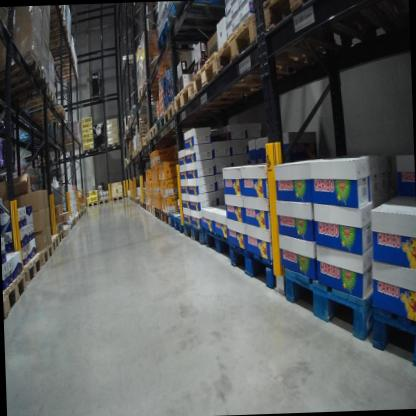pallet: (209, 4, 335, 96), (279, 260, 379, 354), (259, 0, 388, 58), (192, 51, 288, 104), (174, 78, 287, 123), (370, 288, 416, 374), (149, 15, 235, 53), (227, 242, 273, 296), (0, 53, 47, 102), (9, 88, 63, 127), (10, 74, 51, 115), (164, 1, 228, 25), (3, 270, 28, 322), (35, 102, 71, 131), (202, 227, 234, 258), (182, 221, 210, 251), (21, 251, 43, 283), (136, 87, 166, 107), (171, 207, 187, 242), (141, 78, 166, 96), (160, 206, 177, 229), (46, 232, 61, 258), (38, 244, 54, 267), (57, 136, 80, 151), (164, 98, 175, 127), (45, 6, 67, 17), (44, 155, 64, 167), (151, 206, 166, 222), (156, 114, 165, 137), (150, 121, 158, 142), (59, 225, 69, 240), (97, 195, 110, 205), (111, 195, 127, 203), (140, 135, 148, 151), (57, 228, 64, 246), (86, 200, 98, 209), (66, 219, 76, 229), (149, 203, 155, 217), (138, 199, 144, 212), (38, 162, 49, 168), (145, 201, 150, 214), (142, 199, 147, 211), (75, 212, 81, 222), (38, 158, 50, 163), (74, 214, 79, 225)
